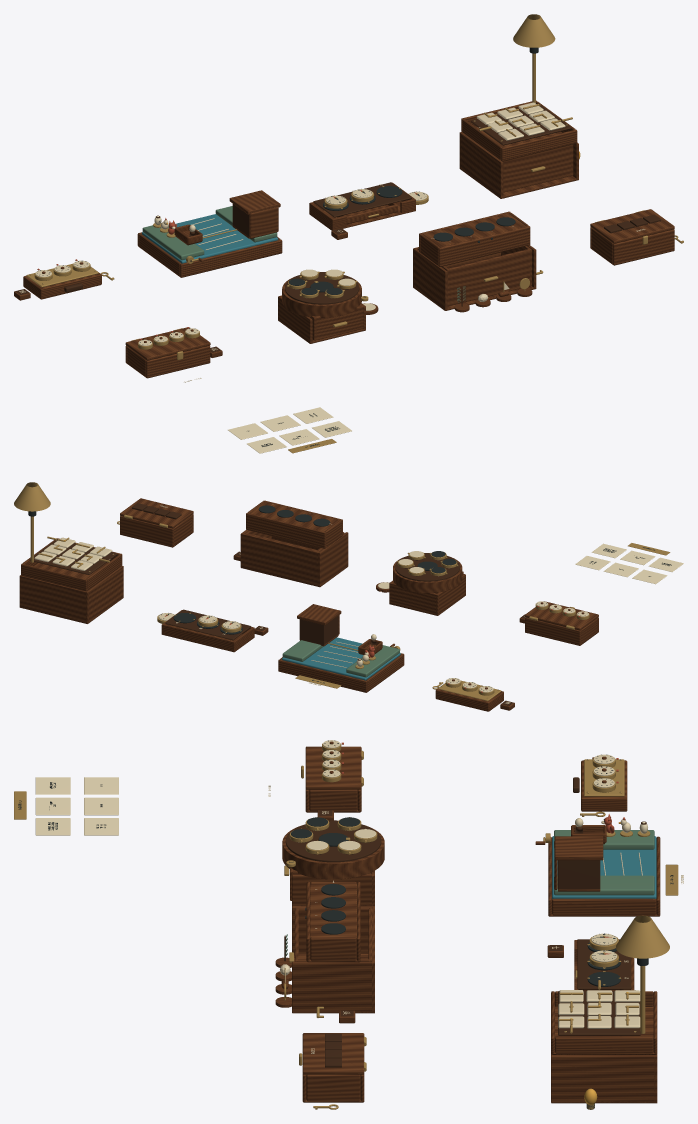
The model's file is PuzzleProps_All.fbx.
3 views of the same model, one above another, from view 1: azimuth 30°, elevation 25°; view 2: azimuth 150°, elevation 25°; view 3: azimuth 270°, elevation 25° (orthographic). The views are drawn at different scales.
Parts seen in each view (by area): view 1: SequenceRewardDrawer_End.002, LampRewardDrawer_End.002, River bed.001, Sequence cabinet_Front.001, Storage cabinet side.006, River box_Front.001, Storage cabinet side.010, Final chest_Front.001, FinalBox_Lid_Panel.001, Moon wooden housing.001, WordBox_Lid_Panel.001, Word box_Front.001 (+12 smaller); view 2: Storage cabinet back.005, Storage cabinet back.003, River bed.001, Sequence cabinet_Back.001, Storage cabinet side.006, River box_Back.001, Storage cabinet side.010, Final chest_Back.001, Storage cabinet back.004, FinalBox_Lid_Panel.001, Moon wooden housing.001, Word box_Back.001 (+19 smaller); view 3: Storage cabinet side.007, Storage cabinet side.011, River bed.001, FinalBox_Lid_Panel.001, River box_Side.003, Moon wooden housing.001, WordBox_Lid_Panel.001, Lamp puzzle base_Side.003, Sequence surface.001, Brass shade.001, Moon dark face.001, Final chest_Side.003 (+19 smaller).
Part boxes in pixels (box(x1,y1,x2,y2)): SequenceRewardDrawer_End.002: box(446, 248, 531, 305); LampRewardDrawer_End.002: box(503, 144, 572, 191); River bed.001: box(142, 214, 278, 263); Sequence cabinet_Front.001: box(438, 226, 530, 266); Storage cabinet side.006: box(459, 132, 503, 198); River box_Front.001: box(180, 239, 282, 277); Storage cabinet side.010: box(413, 248, 447, 309); Final chest_Front.001: box(613, 229, 674, 264); FinalBox_Lid_Panel.001: box(590, 209, 674, 243); Moon wooden housing.001: box(282, 276, 361, 317); WordBox_Lid_Panel.001: box(125, 327, 210, 360); Word box_Front.001: box(146, 345, 210, 377); Storage cabinet back.005: box(240, 533, 319, 586); Storage cabinet back.003: box(20, 576, 88, 623); River bed.001: box(282, 637, 400, 680); Sequence cabinet_Back.001: box(246, 513, 325, 548); Storage cabinet side.006: box(86, 565, 123, 623); River box_Back.001: box(278, 659, 367, 692); Storage cabinet side.010: box(318, 532, 348, 586); Final chest_Back.001: box(120, 516, 173, 547); Storage cabinet back.004: box(389, 582, 438, 614); FinalBox_Lid_Panel.001: box(120, 498, 193, 528); Moon wooden housing.001: box(393, 557, 462, 593); Word box_Back.001: box(525, 617, 580, 645); Storage cabinet side.007: box(551, 1055, 657, 1103); Storage cabinet side.011: box(292, 961, 374, 1012); River bed.001: box(552, 836, 656, 898); FinalBox_Lid_Panel.001: box(302, 1033, 364, 1074); River box_Side.003: box(552, 898, 656, 916); Moon wooden housing.001: box(282, 825, 384, 879); WordBox_Lid_Panel.001: box(305, 746, 361, 789); Lamp puzzle base_Side.003: box(555, 1037, 653, 1054); Sequence surface.001: box(310, 883, 356, 938); Brass shade.001: box(616, 915, 669, 958); Moon dark face.001: box(285, 820, 381, 862); Final chest_Side.003: box(306, 1074, 360, 1102).
Size of the model in its own units: 4.29 by 1.02 by 3.46.
10 materials, 1 textured.
